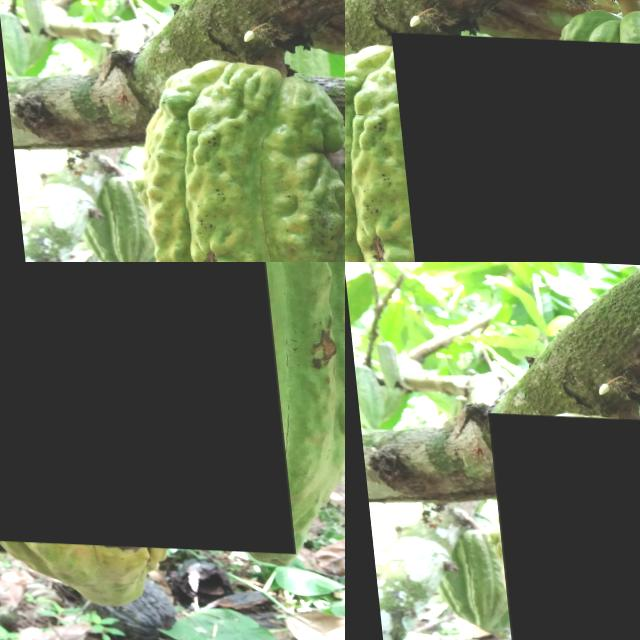Monilia: (484, 412, 640, 640)
Sana: (0, 262, 285, 549), (388, 30, 640, 262), (453, 529, 492, 624)
